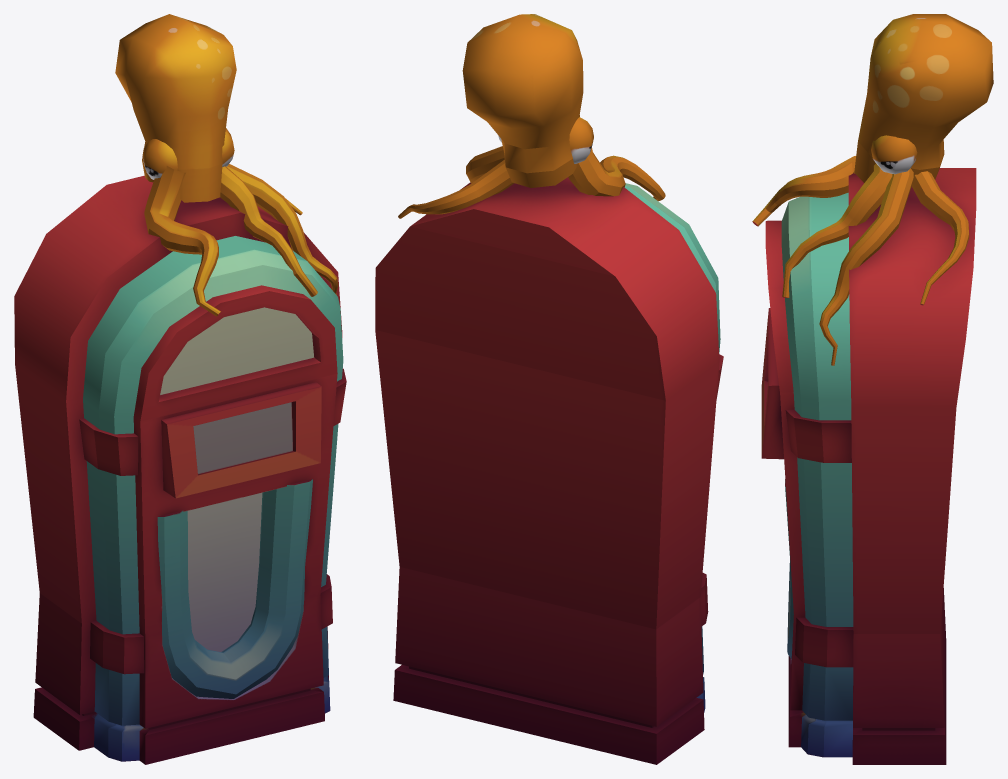
Rendered from Jukebox_mesh.fbx.
3 views of the same model, side by side, from view 1: azimuth 30°, elevation 25°; view 2: azimuth 150°, elevation 25°; view 3: azimuth 270°, elevation 25° (orthographic). The views are drawn at different scales.
Visible parts, largest first — view 1: Jukebox_mesh; view 2: Jukebox_mesh; view 3: Jukebox_mesh.
Part boxes in pixels (x1,y1,x2,y2): Jukebox_mesh: (14, 14, 346, 764); Jukebox_mesh: (375, 14, 723, 764); Jukebox_mesh: (752, 14, 993, 764).
Size of the model in its own units: 4.07 by 9.42 by 2.99.
